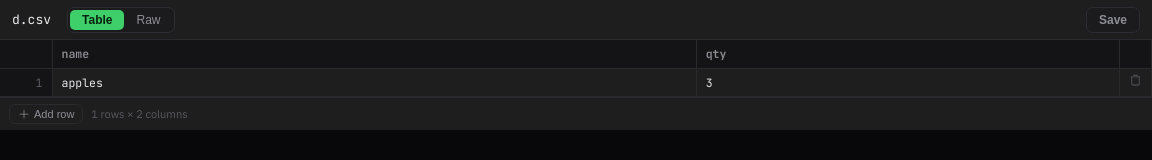
Test: FileEditorTab › leaves the tab marked dirty in the store after unmount (a backgrounded tab is still unsaved)
Double-click the text "apples" at [374, 82], box [52,68,696,96]
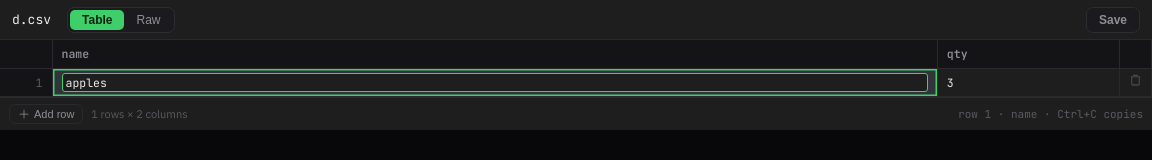
Replace the text in the field with "kiwis" at [495, 82], box [62,72,928,92]
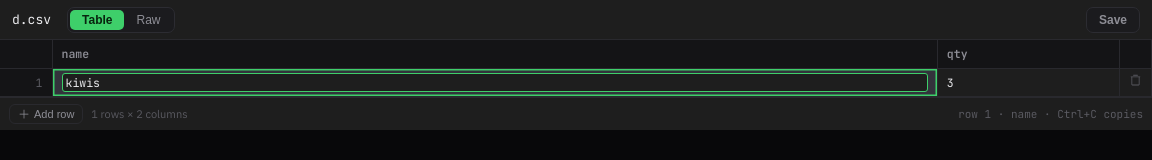
Press Enter in the field, box [62,72,928,92]
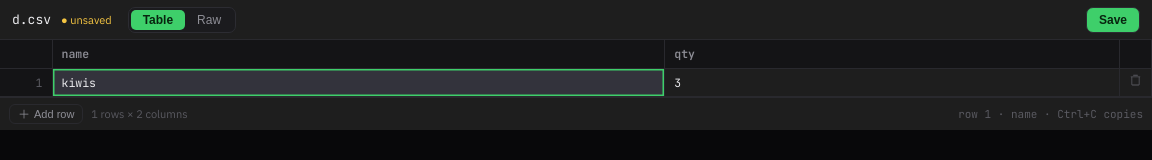
expect the text "● unsaved" is shown: met, box [61,12,112,26]
